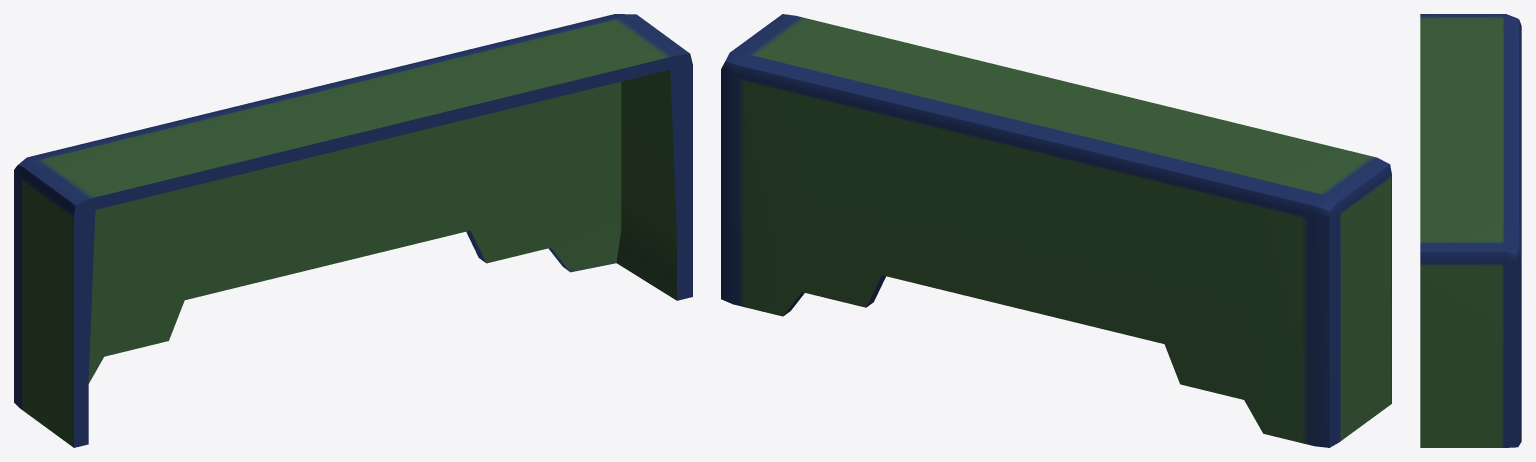
Rendered from windowCovers 1.fbx.
3 views of the same model, side by side, from view 1: azimuth 30°, elevation 25°; view 2: azimuth 150°, elevation 25°; view 3: azimuth 270°, elevation 25° (orthographic). The views are drawn at different scales.
Visible parts, largest first — view 1: windowCOver1; view 2: windowCOver1; view 3: windowCOver1.
Part boxes in pixels (x1,y1,x2,y2): windowCOver1: (14,14,692,447); windowCOver1: (721,14,1391,447); windowCOver1: (1420,14,1521,447).
Bounding box in the file's own units: 4.61 × 1.75 × 0.82.
1 material, 1 textured.
